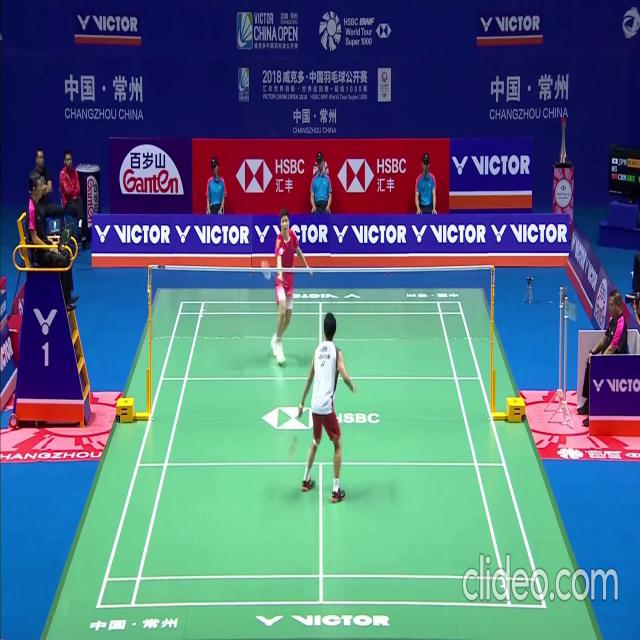Shuttlecock: (278, 248, 282, 255)
